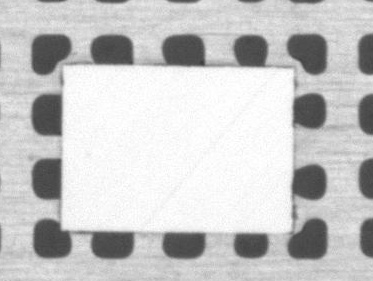DIE_CRACK: (134, 68, 279, 229)
